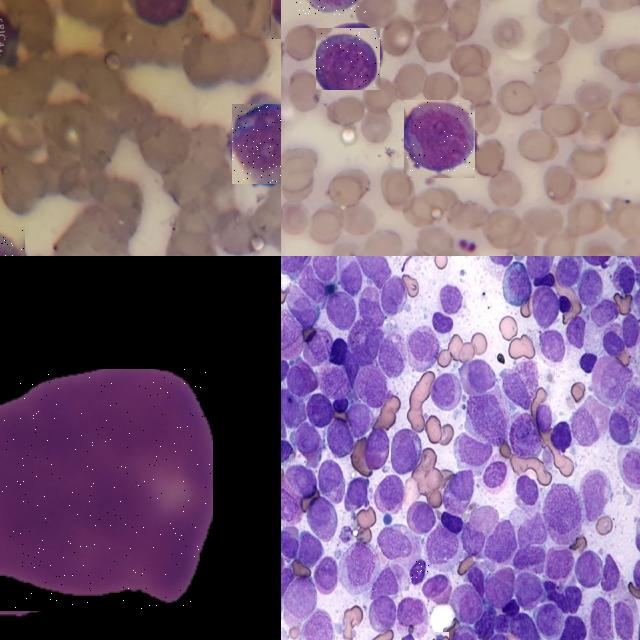ALL Negative Cells: (0, 369, 212, 611), (546, 482, 585, 534), (579, 469, 616, 518), (324, 291, 358, 330), (379, 520, 408, 565), (618, 442, 640, 492), (301, 608, 333, 640)
ALL Positive Cell: (404, 100, 475, 178), (316, 27, 380, 90), (232, 104, 281, 183), (296, 0, 368, 16), (545, 418, 576, 453), (428, 308, 456, 335), (439, 510, 469, 533), (328, 335, 347, 367), (532, 268, 554, 291), (331, 397, 352, 421), (566, 618, 586, 640), (281, 435, 297, 461), (411, 560, 429, 583), (560, 296, 576, 314), (433, 630, 454, 640), (434, 632, 449, 640)
